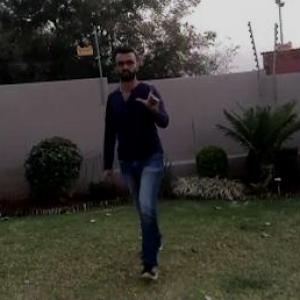land_hand: (132, 76, 166, 112)
